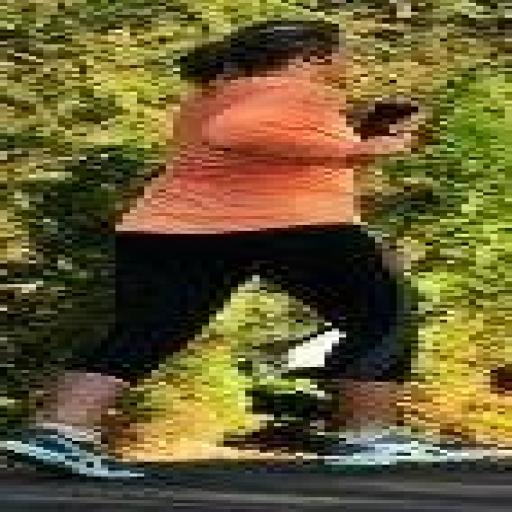person: (0, 21, 461, 479)
